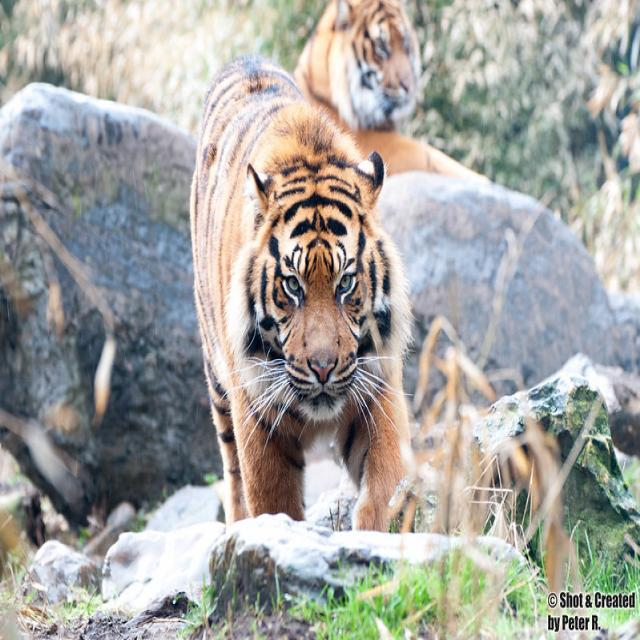Tiger: (189, 44, 414, 537), (293, 0, 553, 196)
